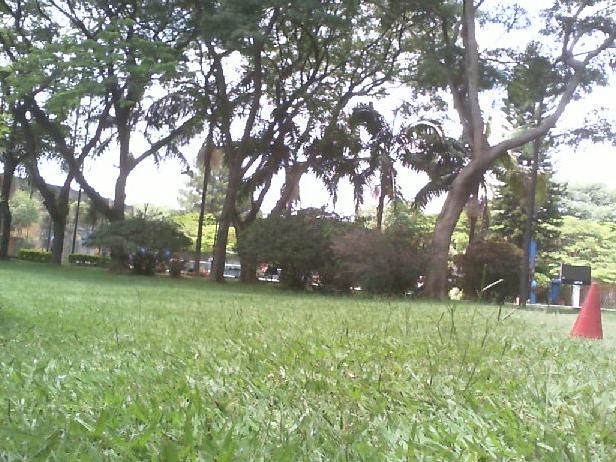0 cone: (569, 282, 604, 341)
